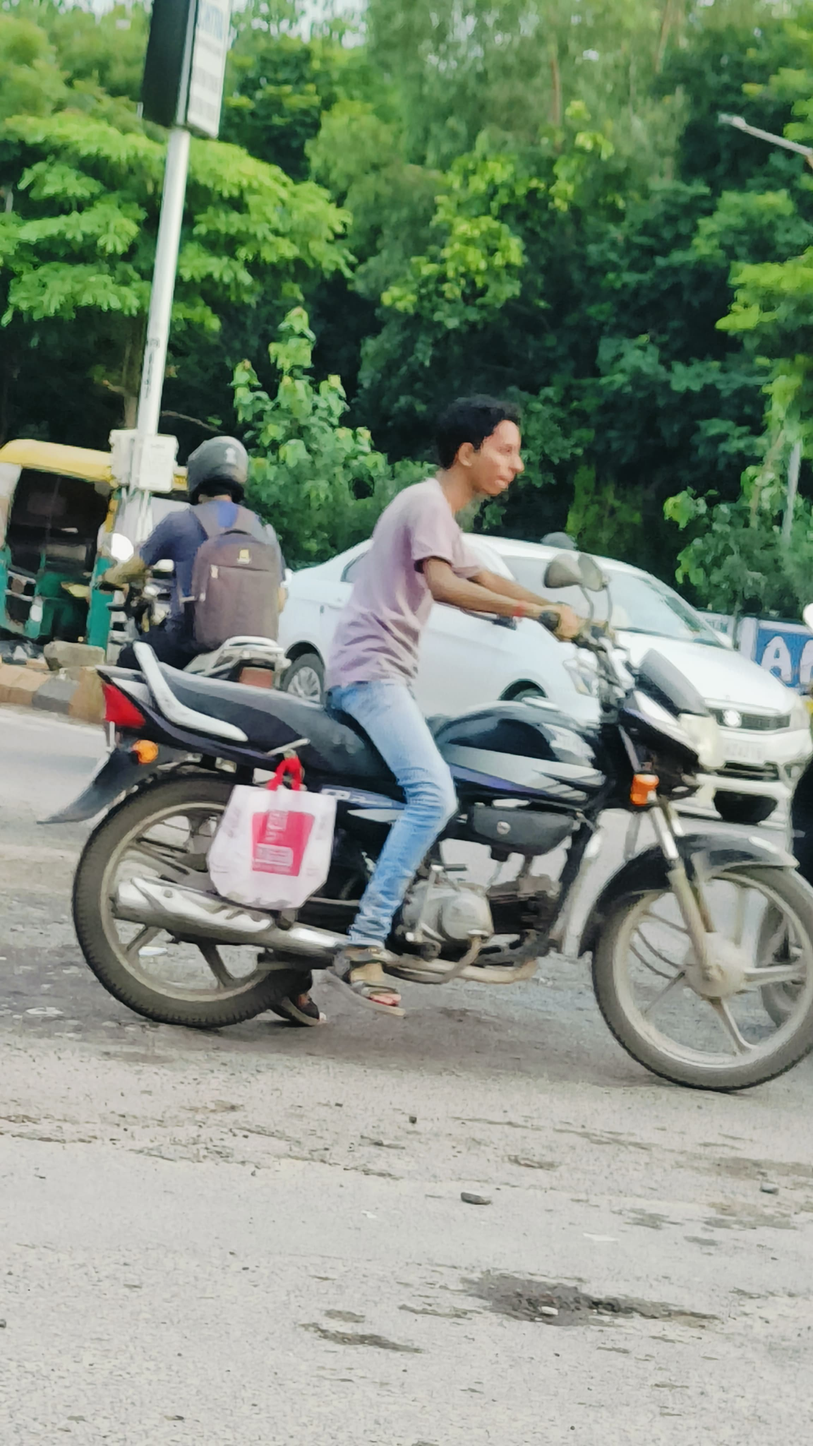BikeWithRider: (62, 392, 813, 1095), (93, 433, 298, 710)
Helmet: (177, 435, 255, 504)
NoHelmet: (433, 398, 532, 498)
